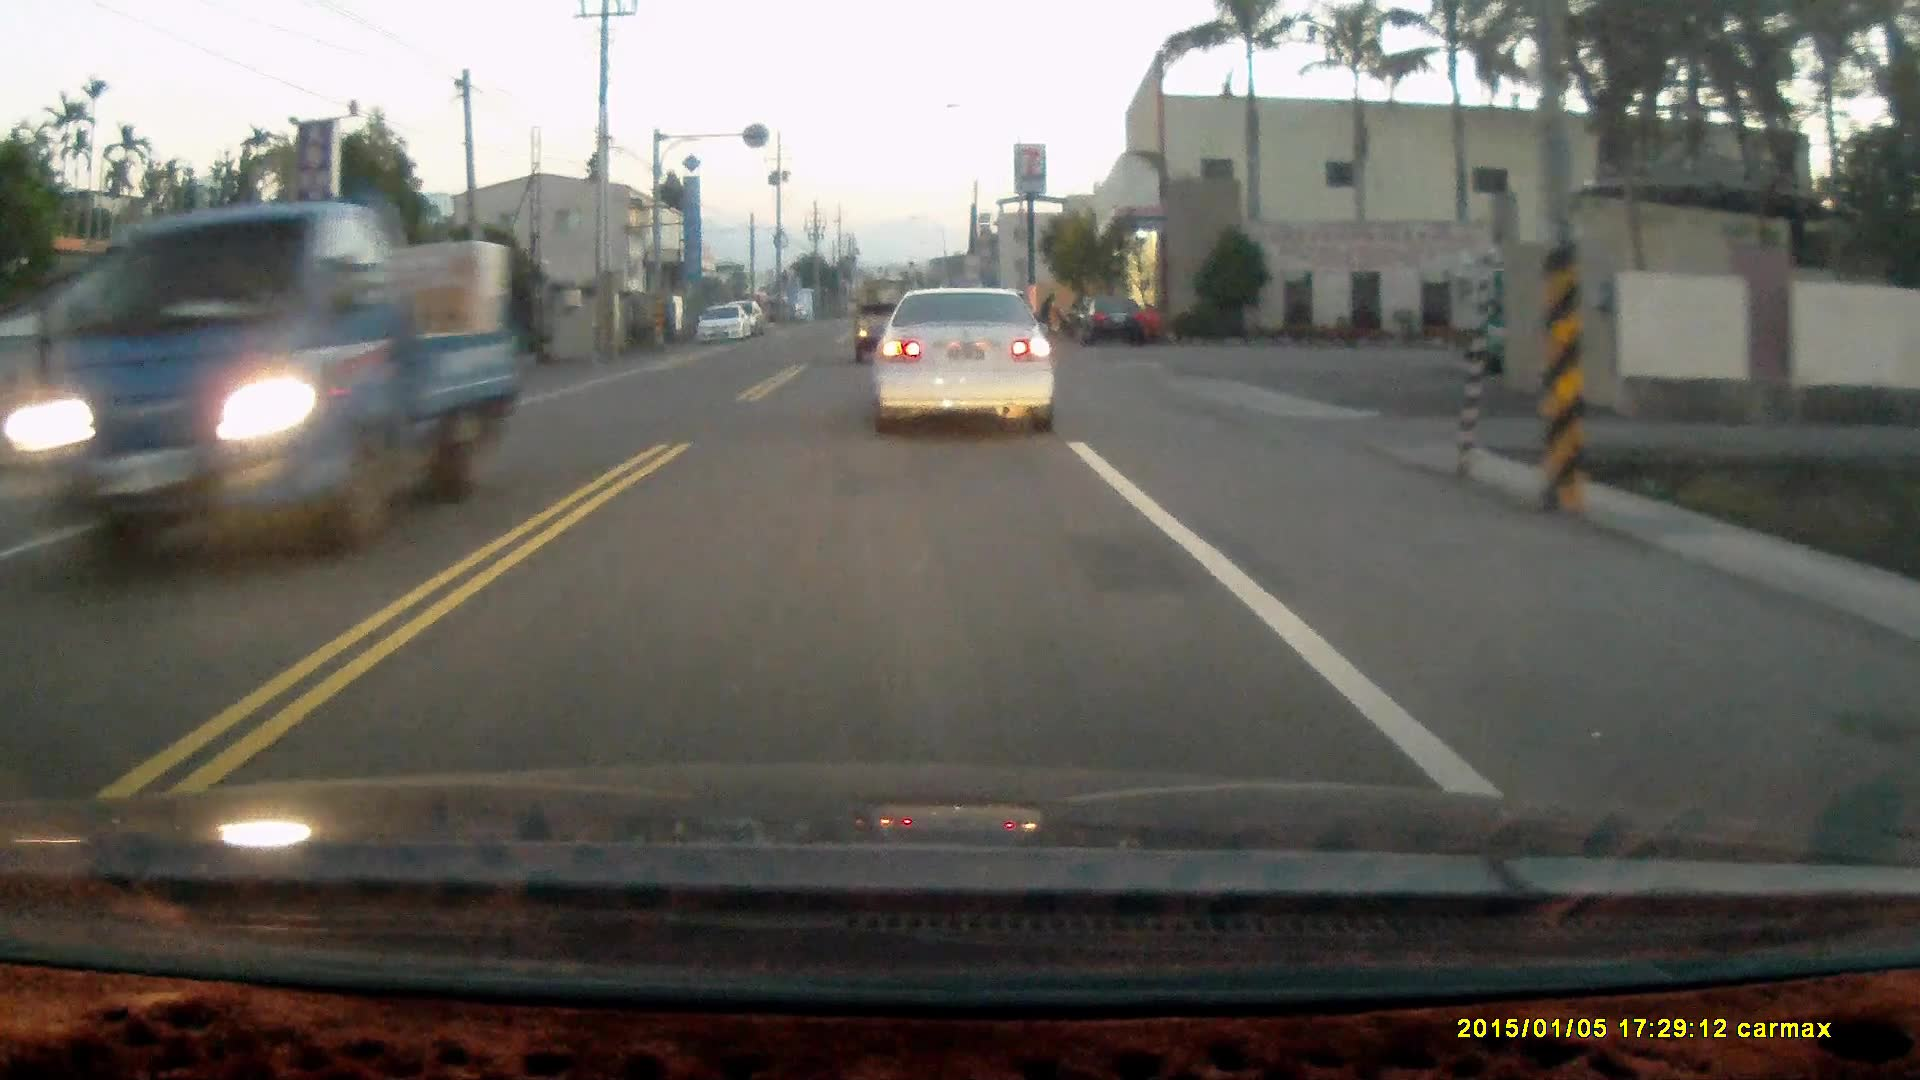rider: (1030, 289, 1073, 339)
vehicle: (62, 197, 513, 578), (879, 282, 1063, 434), (855, 275, 929, 363), (1076, 285, 1145, 341), (702, 307, 751, 347)
